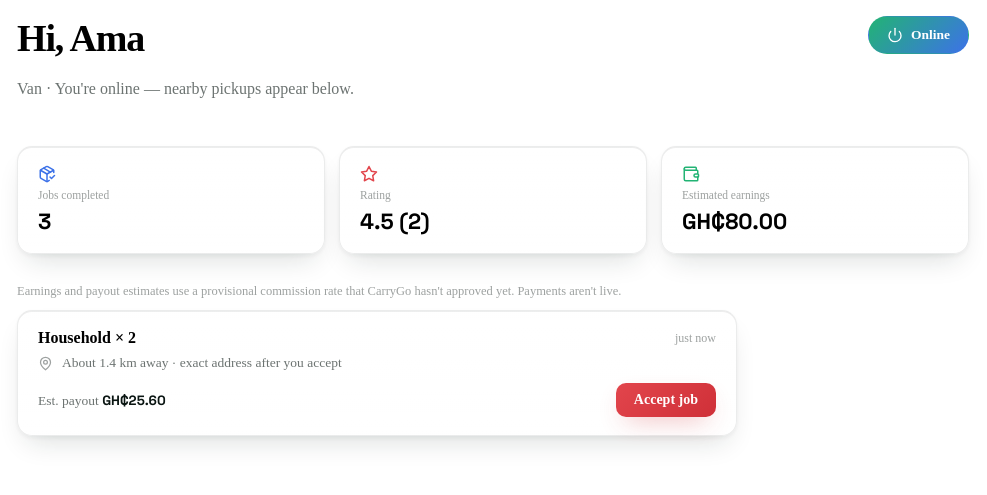
Test case: CollectorDashboard — jobs › tells the collector clearly when another collector took the job first
Click the button "Accept job" at point(666, 400), box x1=616 y1=383 x2=716 y2=417
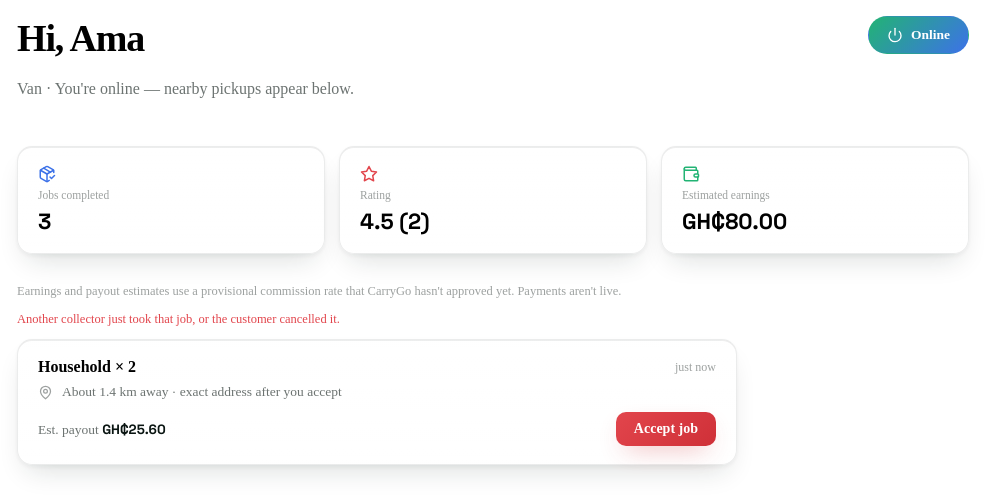
Result: the message shows "Another collector just took that job" at x1=17 y1=312 x2=340 y2=326
